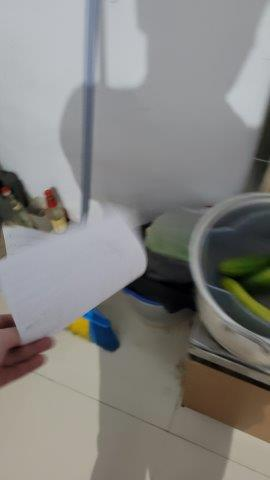kertas: (1, 219, 150, 348)
